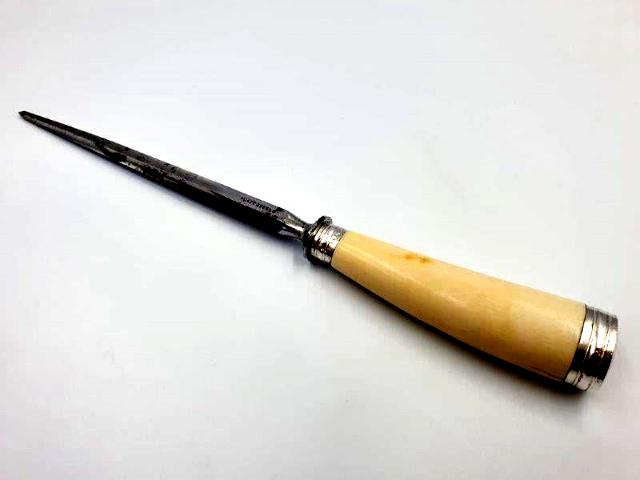ice pick: (18, 109, 618, 394)
